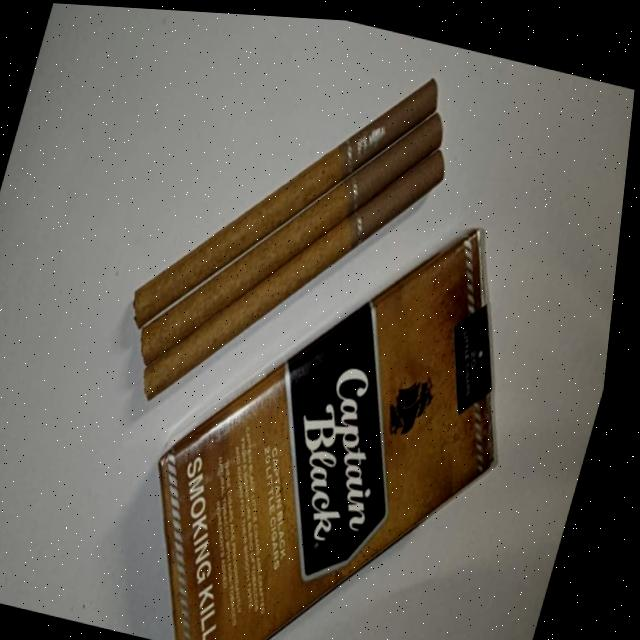cigarette: (138, 115, 440, 365), (131, 78, 435, 320), (142, 151, 442, 395)
